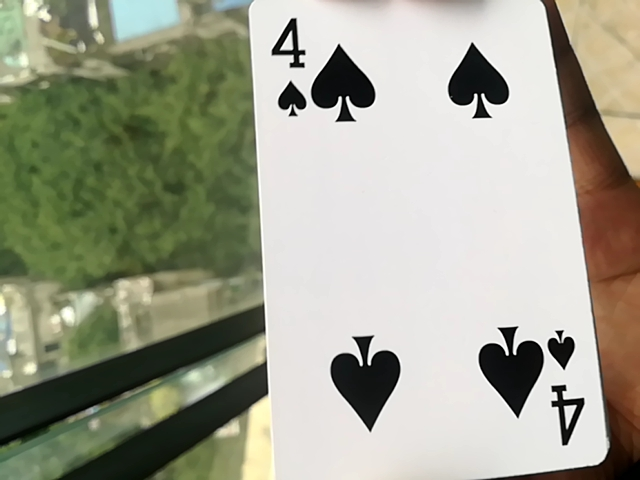ht 4: (239, 8, 622, 479)
